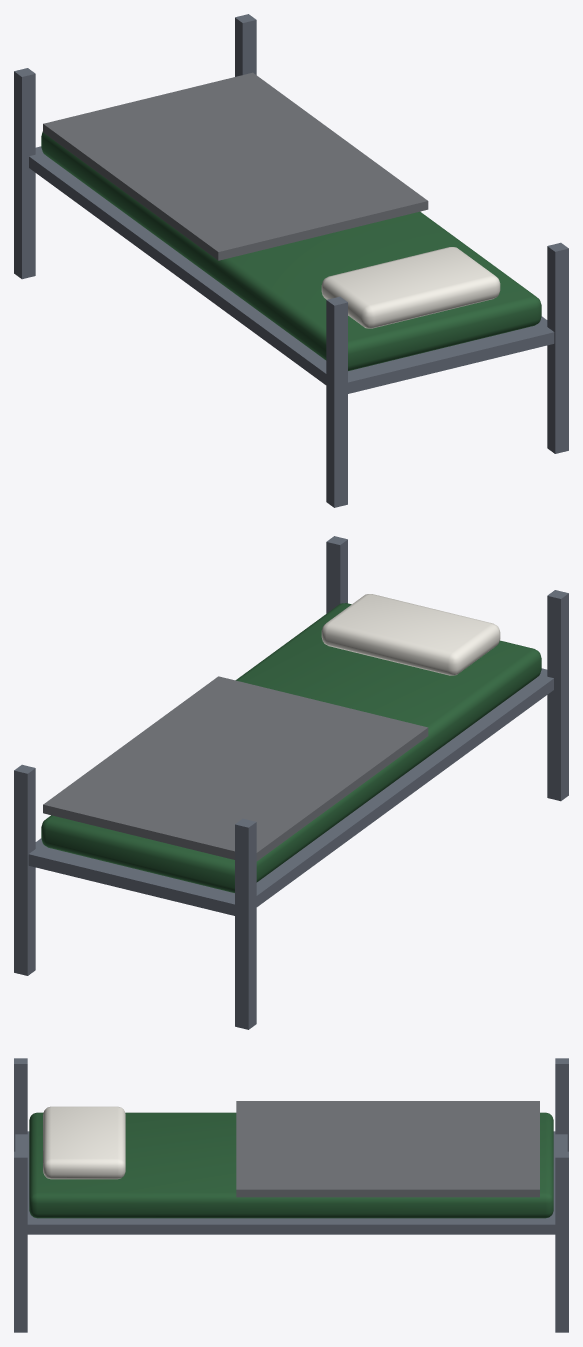
File: justice.prison.bed.glb
3 renders of one model, top to bottom at view 1: azimuth 30°, elevation 25°; view 2: azimuth 150°, elevation 25°; view 3: azimuth 270°, elevation 25°, orthographic. The views are drawn at different scales.
Parts seen in each view (by area): view 1: main__fabric_grey, main__steel_painted, main__fabric_green, main__fabric_white; view 2: main__fabric_grey, main__steel_painted, main__fabric_green, main__fabric_white; view 3: main__fabric_grey, main__fabric_green, main__steel_painted, main__fabric_white.
Part boxes in pixels (x1,y1,x2,y2): main__fabric_grey: [43, 72, 428, 260]; main__steel_painted: [14, 14, 568, 507]; main__fabric_green: [41, 131, 541, 370]; main__fabric_white: [321, 247, 500, 328]; main__fabric_grey: [43, 676, 428, 861]; main__steel_painted: [14, 536, 568, 1029]; main__fabric_green: [41, 603, 541, 892]; main__fabric_white: [321, 594, 500, 675]; main__fabric_grey: [236, 1101, 539, 1197]; main__fabric_green: [29, 1112, 553, 1218]; main__steel_painted: [14, 1058, 568, 1332]; main__fabric_white: [43, 1106, 125, 1179].
Bounding box in the file's own units: 0.85 × 0.7 × 2.01.
